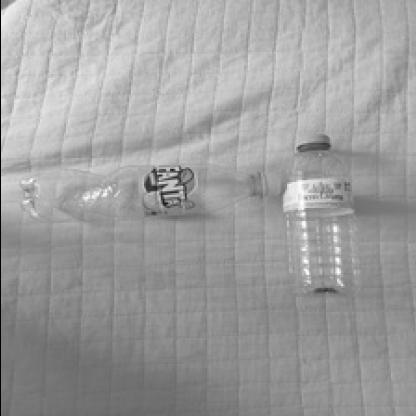plastic_bottles: (17, 156, 282, 224), (282, 127, 359, 302)
